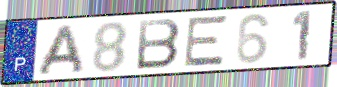1: (290, 8, 314, 63)
6: (233, 11, 274, 66)
8: (90, 19, 131, 74)
A: (34, 23, 87, 77)
B: (135, 17, 183, 72)
E: (181, 14, 231, 69)
